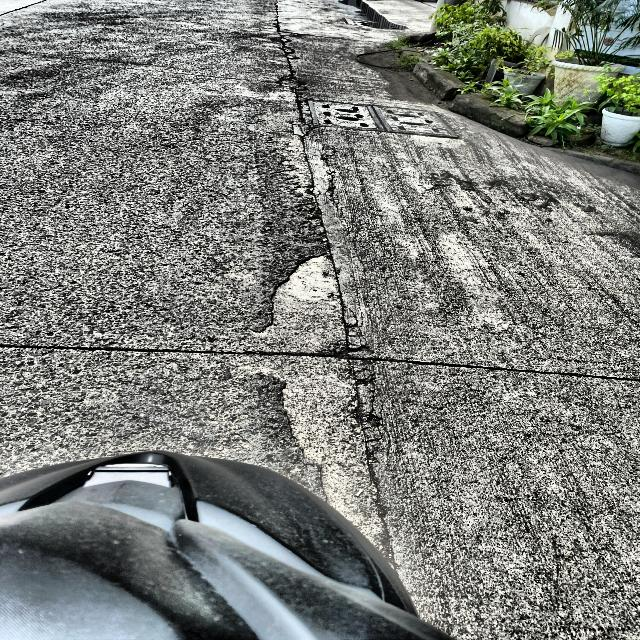major_scaling: (2, 0, 347, 495)
